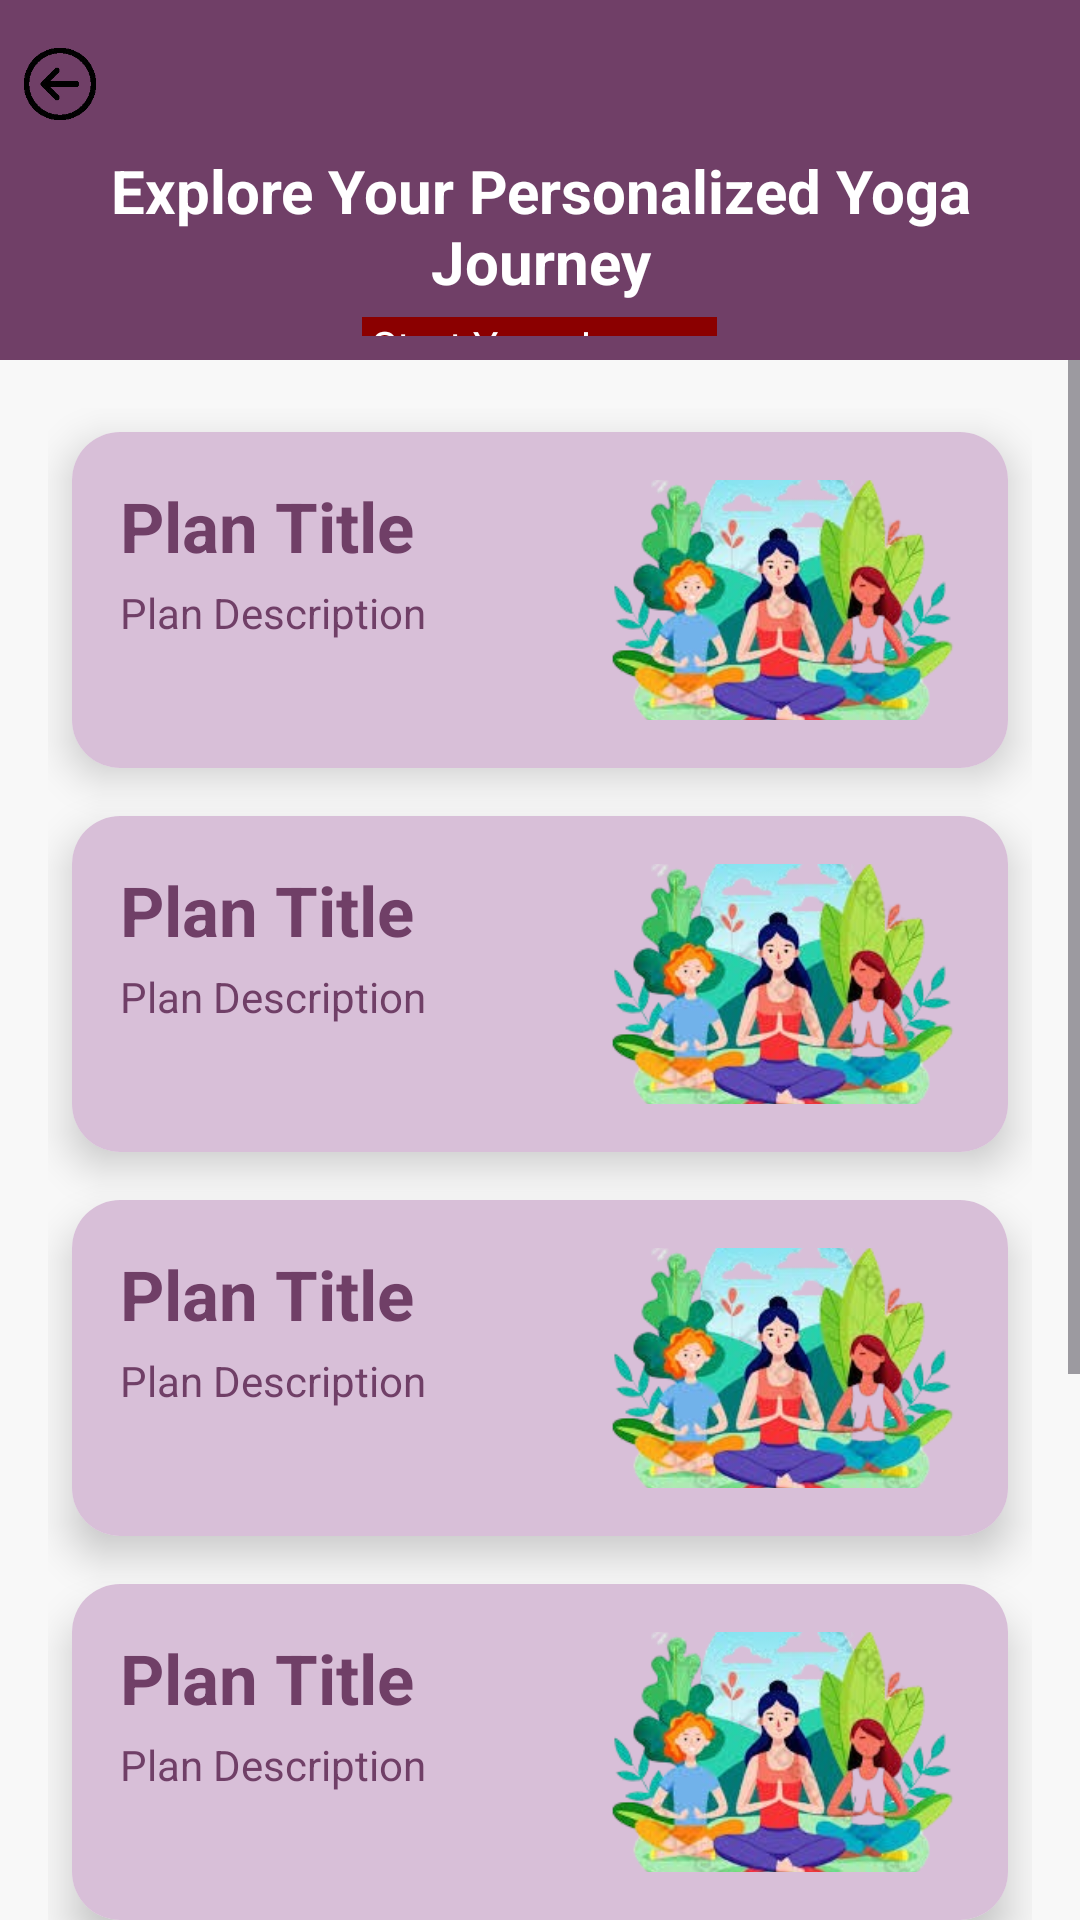

Icons on this 1080 × 1920 Android screen, each with the point to tap as [x,y]:
Back: [60,84]
